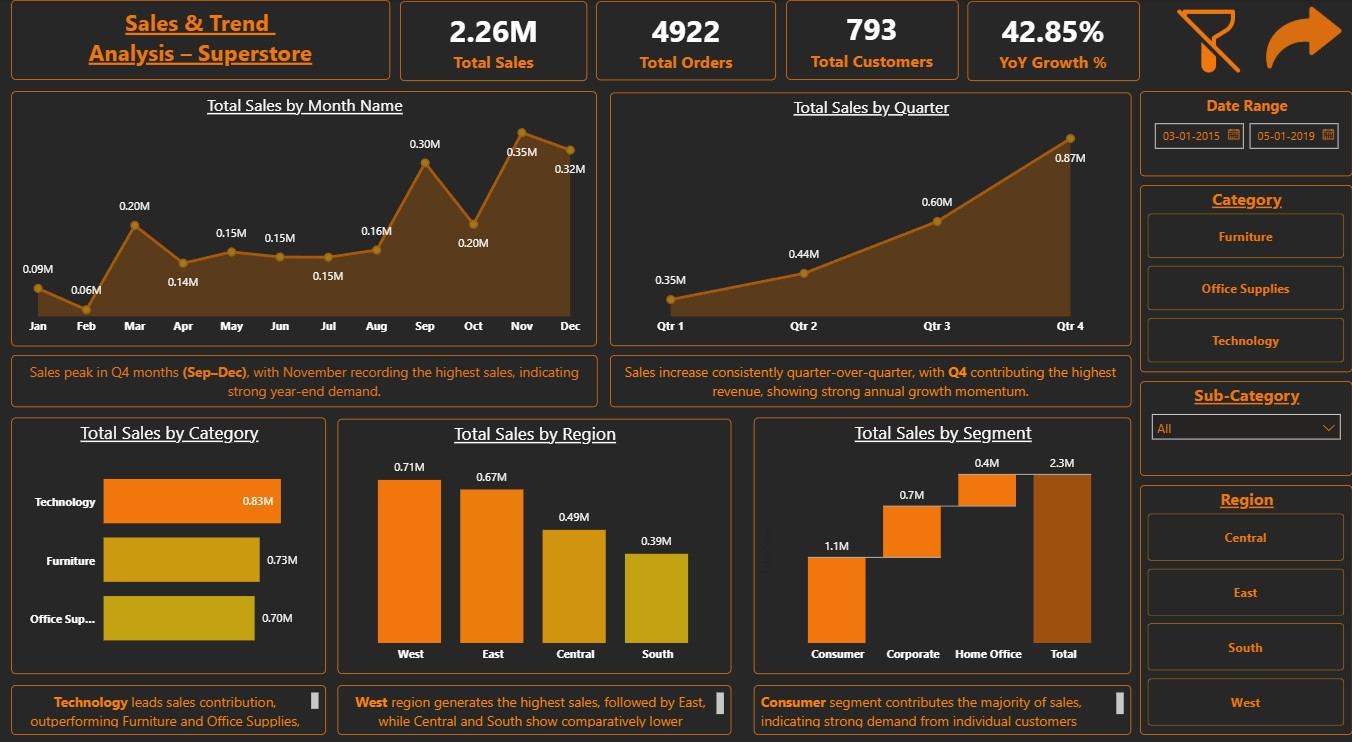

The page's visual inventory and layout, read from the dashboard file:
{"tool":"powerbi","page":{"name":"Sales Summary","canvas":[1450,800],"ordinal":0},"visuals":[{"type":"cardVisual","fields":{"Data":["-Measures.Total Sales"]},"box":[428.3,1.3,201.1,85.8],"z":0},{"type":"textbox","box":[12.1,0,406.2,85.8],"z":1000},{"type":"cardVisual","fields":{"Data":["-Measures.Total Orders"]},"box":[639.4,1.3,193,84.5],"z":2000},{"type":"cardVisual","fields":{"Data":["-Measures.Total Customers"]},"box":[842.5,0,185,85.8],"z":3000},{"type":"areaChart","fields":{"Y":["-Measures.Total Sales"],"Category":["Calendar.Month Name"]},"box":[11.4,97.9,628.3,273.4],"z":4000},{"type":"columnChart","fields":{"Y":["-Measures.Total Sales"],"Category":["superstoresales_view.Region"]},"box":[361.9,449.1,422.3,273.5],"z":5000},{"type":"clusteredBarChart","fields":{"Category":["superstoresales_view.Category"],"Y":["-Measures.Total Sales"]},"box":[12.1,447.7,337.8,274.8],"z":6000},{"type":"waterfallChart","fields":{"Category":["superstoresales_view.Segment"],"Y":["-Measures.Total Sales"]},"box":[808.3,447.7,404.8,274.8],"z":7000},{"type":"slicer","title":"Date Range","fields":{"Values":["Calendar.Date"]},"box":[1222.5,97.9,227.9,91.2],"z":8000},{"type":"advancedSlicerVisual","fields":{"Values":["superstoresales_view.Category"]},"box":[1222.5,198.4,227.9,201.1],"z":9000},{"type":"advancedSlicerVisual","fields":{"Values":["superstoresales_view.Region"]},"box":[1222.5,520.1,227.9,268.1],"z":10000},{"type":"slicer","title":"Sub-Category","fields":{"Values":["superstoresales_view.Sub_Category"]},"box":[1222.5,408.8,227.9,101.9],"z":11000},{"type":"textbox","box":[12.1,380.7,628.7,56.3],"z":12000},{"type":"textbox","box":[654.2,380.7,559,56.3],"z":13000},{"type":"textbox","box":[12.1,734.6,337.8,53.6],"z":14000},{"type":"textbox","box":[361.9,734.6,422.3,53.6],"z":15000},{"type":"textbox","box":[808.3,734.6,404.8,53.6],"z":16000},{"type":"cardVisual","fields":{"Data":["-Measures.YoY Growth %"]},"box":[1037.5,1.3,185,85.8],"z":17000},{"type":"image","box":[1246.7,8,99.2,72.4],"z":18000},{"type":"image","box":[1345.9,0,104.6,80.4],"z":19000},{"type":"areaChart","fields":{"Y":["-Measures.Total Sales"],"Category":["Calendar.Date.Variation.Date Hierarchy.Quarter"]},"box":[654.2,99.2,559,272.1],"z":20000}]}

Visuals, with their boxes in screenshot pixels (x1, y1, x2, y2), scaled from the page's 1450x800 canvas onto the 1352x742 screenshot:
cardVisual - -Measures.Total Sales: [399, 1, 587, 81]
textbox: [11, 0, 390, 80]
cardVisual - -Measures.Total Orders: [596, 1, 776, 80]
cardVisual - -Measures.Total Customers: [786, 0, 958, 80]
areaChart - -Measures.Total Sales x Calendar.Month Name: [11, 91, 596, 344]
columnChart - -Measures.Total Sales x superstoresales_view.Region: [337, 417, 731, 670]
clusteredBarChart - superstoresales_view.Category x -Measures.Total Sales: [11, 415, 326, 670]
waterfallChart - superstoresales_view.Segment x -Measures.Total Sales: [754, 415, 1131, 670]
"Date Range" slicer: [1140, 91, 1351, 175]
advancedSlicerVisual - superstoresales_view.Category: [1140, 184, 1351, 371]
advancedSlicerVisual - superstoresales_view.Region: [1140, 482, 1351, 731]
"Sub-Category" slicer: [1140, 379, 1351, 474]
textbox: [11, 353, 597, 405]
textbox: [610, 353, 1131, 405]
textbox: [11, 681, 326, 731]
textbox: [337, 681, 731, 731]
textbox: [754, 681, 1131, 731]
cardVisual - -Measures.YoY Growth %: [967, 1, 1140, 81]
image: [1162, 7, 1255, 75]
image: [1255, 0, 1351, 75]
areaChart - -Measures.Total Sales x Calendar.Date.Variation.Date Hierarchy.Quarter: [610, 92, 1131, 344]
